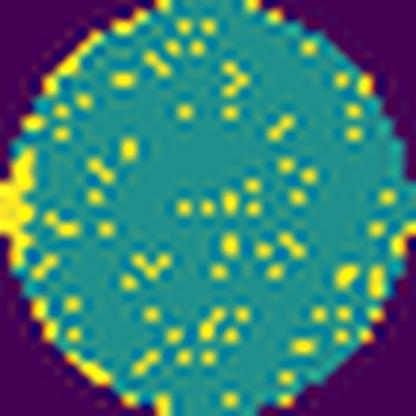Edge-Loc: (0, 143, 43, 270)
